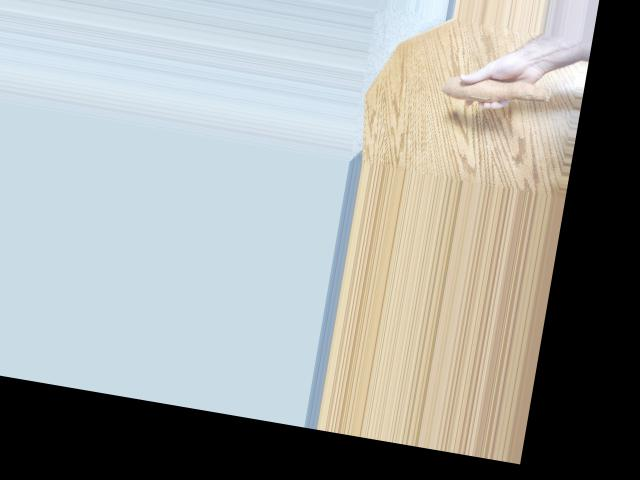sweet_potato: (435, 62, 555, 114)
